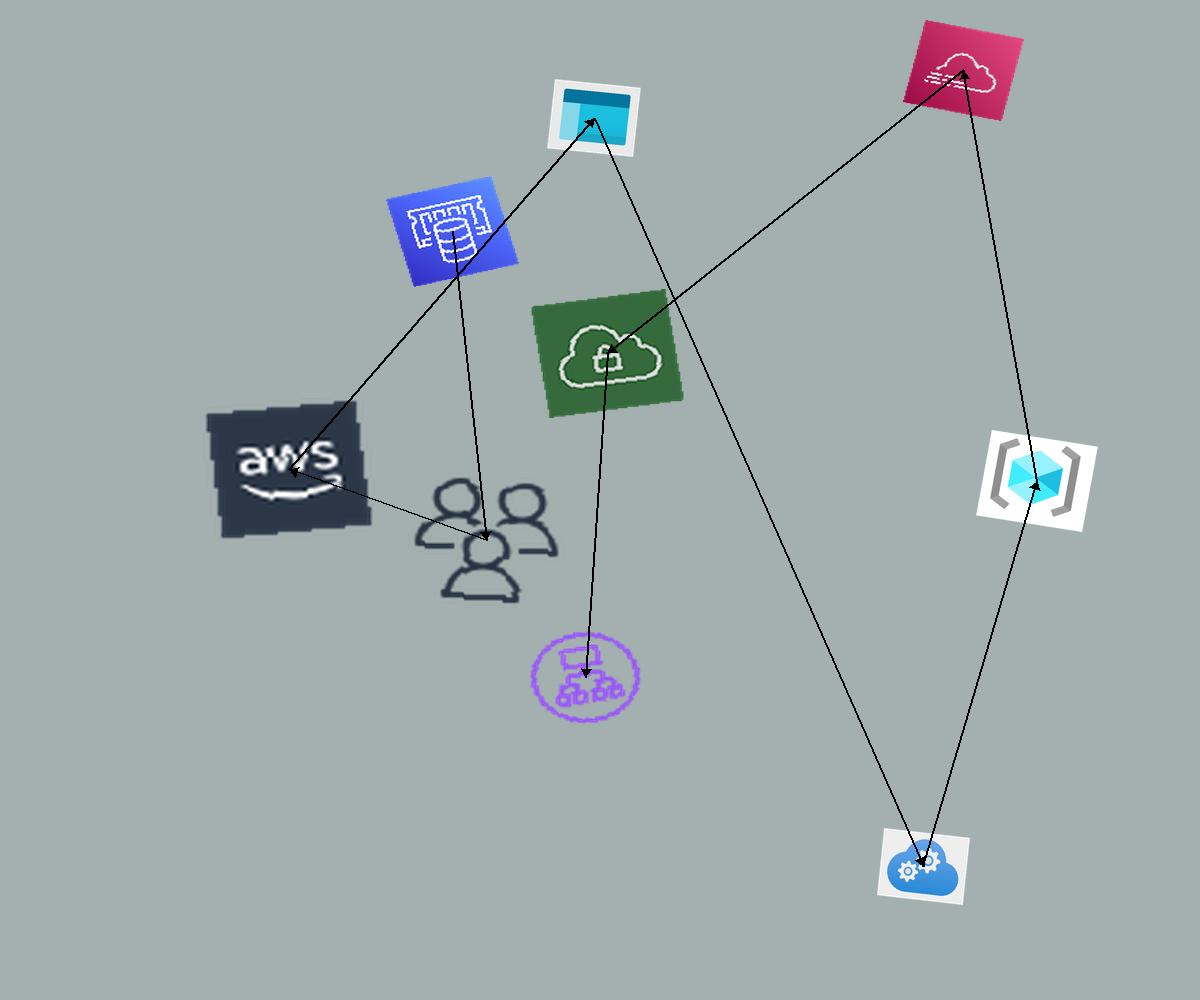AWS-Cloud-logo: (203, 398, 375, 541)
AWS-CloudTrail: (903, 20, 1024, 121)
AWS-ElastiCache: (386, 176, 519, 287)
AWS-Private_vpc: (530, 289, 685, 418)
AWS-Res_Elastic-Load-Balancing_Application-Load-Balancer: (514, 618, 657, 737)
AWS-Res_Users: (402, 470, 571, 611)
Azure_cloud_services: (877, 828, 970, 905)
Azure_management-portal: (547, 79, 641, 157)
Azure_resource_group: (976, 430, 1098, 532)
